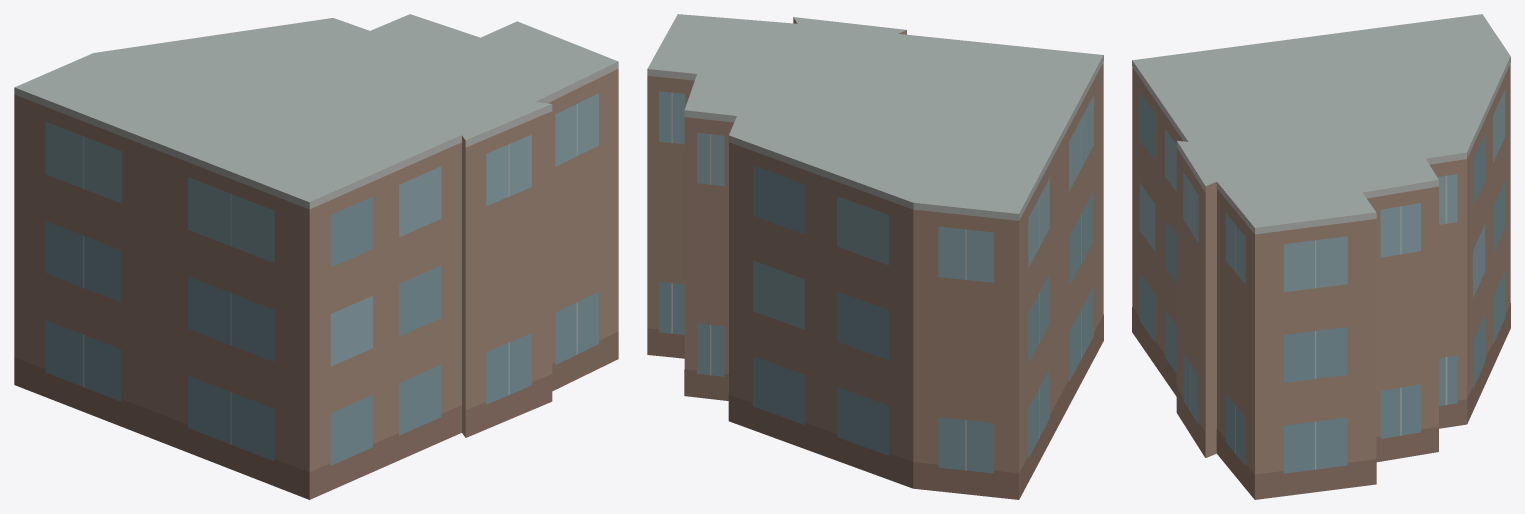
File: survey-upis-32612599.glb
3 renders of one model, left to right at view 1: azimuth 30°, elevation 25°; view 2: azimuth 150°, elevation 25°; view 3: azimuth 270°, elevation 25°, orthographic. The views are drawn at different scales.
Parts seen in each view (by area): view 1: survey-upis-32612599.tmp; view 2: survey-upis-32612599.tmp; view 3: survey-upis-32612599.tmp.
Boxes of the visible parts, <box> form: survey-upis-32612599.tmp: <box>14,14,618,499</box>; survey-upis-32612599.tmp: <box>647,14,1103,499</box>; survey-upis-32612599.tmp: <box>1132,14,1510,499</box>.
Size of the model in its own units: 17.22 by 10.2 by 12.88.
